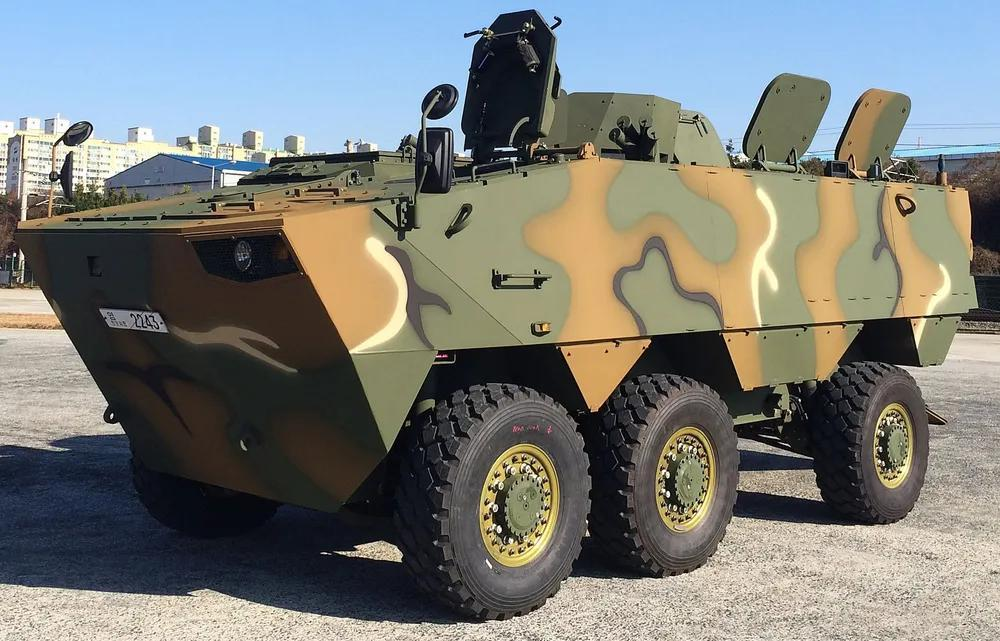MIL_IFV: (21, 10, 973, 624)
